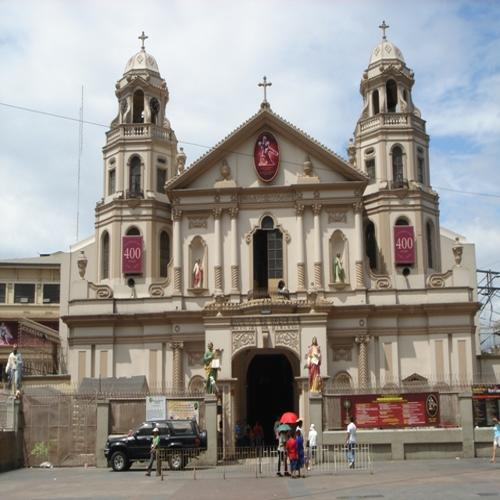Quiapo Church: (62, 16, 474, 458)
